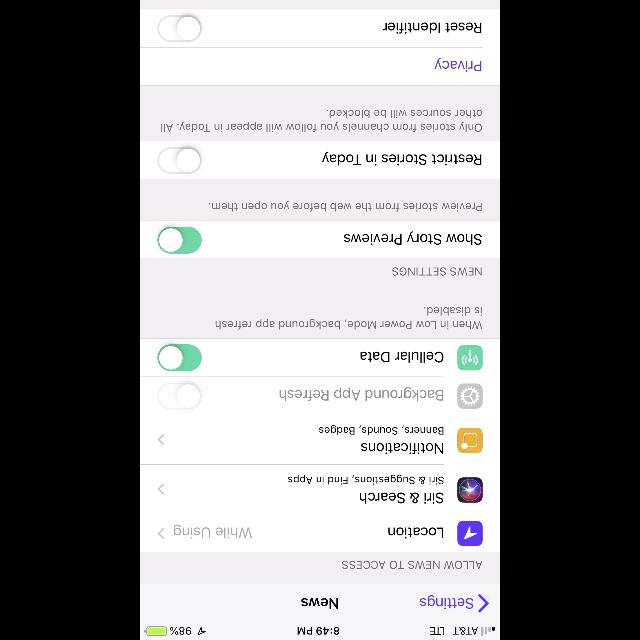icon: (458, 520, 482, 546), (458, 384, 482, 408), (478, 594, 488, 612), (158, 434, 165, 444), (158, 484, 165, 494), (158, 528, 165, 538)
image: (458, 478, 482, 502), (458, 428, 482, 452), (458, 346, 482, 370)
switch: (157, 344, 201, 372), (158, 382, 202, 410), (158, 226, 202, 254), (158, 146, 202, 174), (158, 15, 202, 42)
text: (160, 110, 482, 132), (216, 306, 482, 330), (208, 200, 482, 212), (279, 387, 443, 401), (322, 152, 482, 166), (344, 231, 482, 245), (288, 475, 444, 485), (319, 425, 443, 435), (382, 22, 482, 34), (342, 560, 482, 568), (174, 524, 252, 538), (359, 492, 443, 503), (361, 442, 443, 453), (361, 352, 444, 362), (420, 595, 472, 609), (392, 267, 482, 275), (434, 58, 482, 72), (388, 528, 442, 538), (301, 596, 339, 610)
uppertaskbar: (140, 626, 500, 640)
